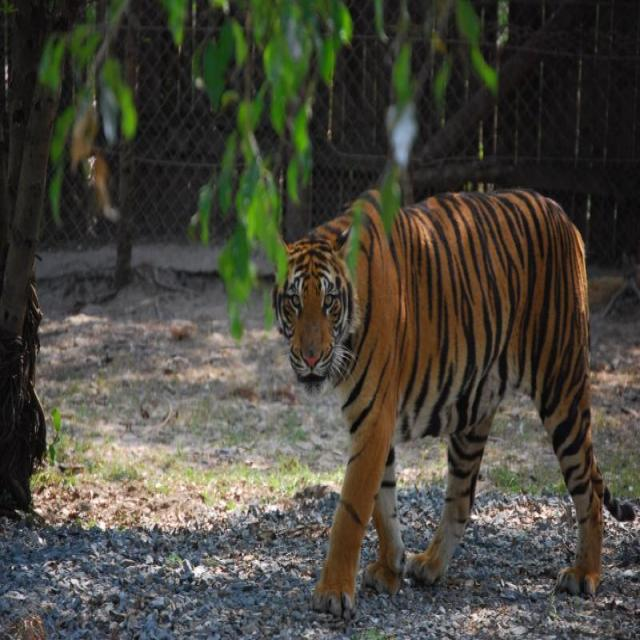Tiger: (270, 173, 634, 616)
